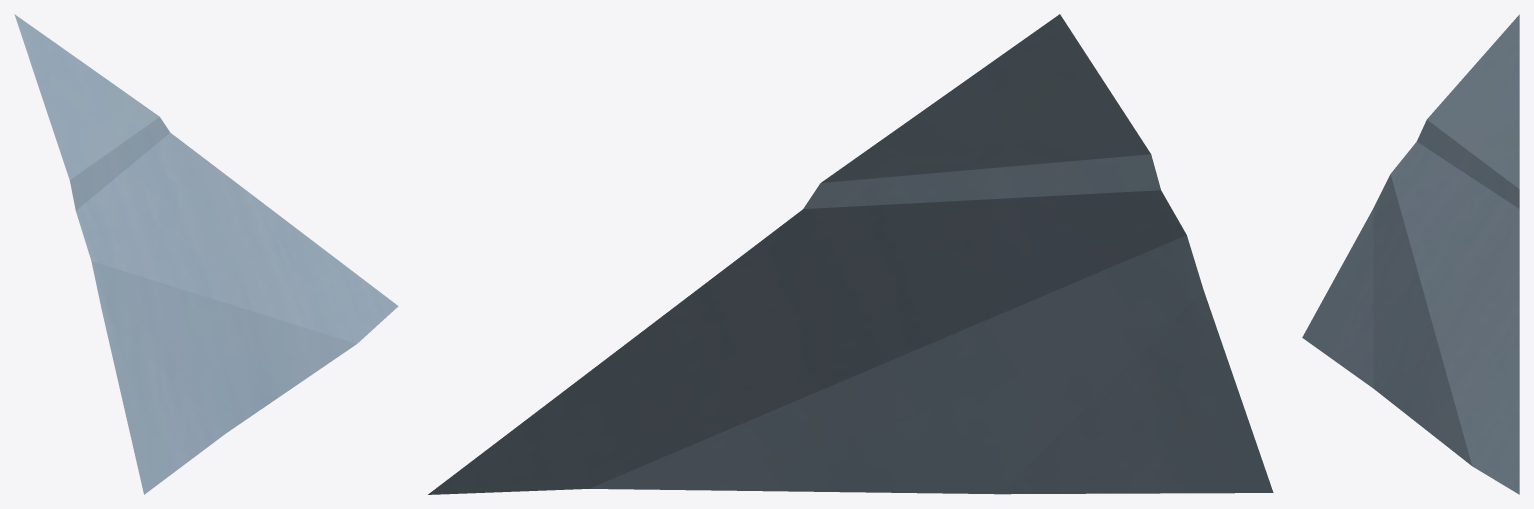
The picture shows the model from 3 angles, left to right: view 1: azimuth 30°, elevation 25°; view 2: azimuth 150°, elevation 25°; view 3: azimuth 270°, elevation 25°; orthographic projection. The views are drawn at different scales.
Size of the model in its own units: 0.3756 by 0.3605 by 0.2197.
Materials: 1 (1 with a texture image).
